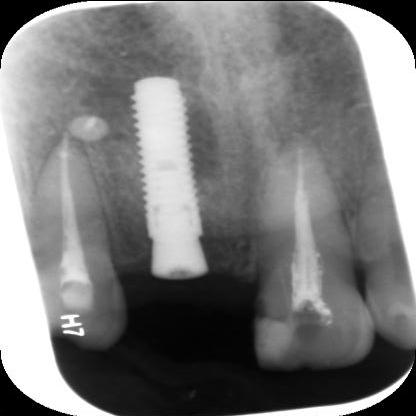ITI: (132, 75, 209, 280)
